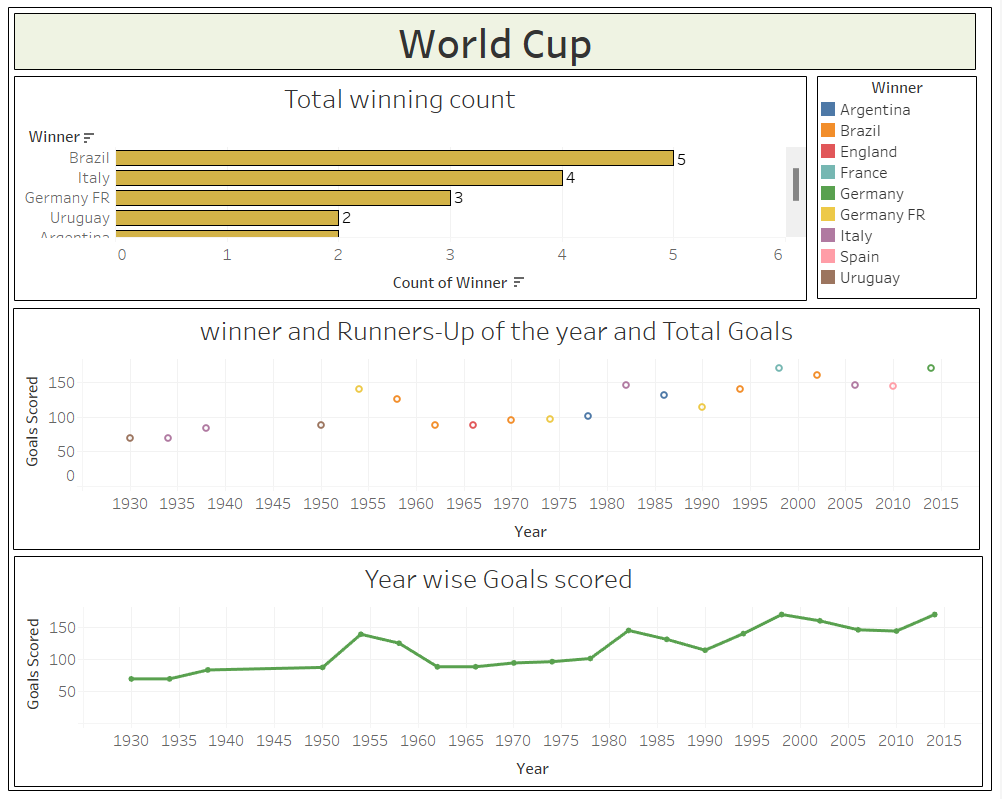

The page's visual inventory and layout, read from the dashboard file:
{"tool":"tableau","page":{"name":"World Cup","canvas":[1000,800],"ordinal":0},"visuals":[{"type":"title","box":[14,14,962,57]},{"type":"image","param":"D:/Downloads/20221122_s2022WCpreview_rhett-lewis-W-6grboBEIY-unsplash.jpg","box":[895,17,76,49]},{"type":"worksheet","title":"winning count","mark":"Automatic","rows":["Winner"],"cols":["Winner"],"box":[14,77,793,225]},{"type":"legend","title":"winner and Runners-Up of the year and Total Goals","param":"[federated.0d5sl63117791k1c37sd61dsb080].[none:Winner:nk]","box":[817,77,160,223]},{"type":"worksheet","title":"winner and Runners-Up of the year and Total Goals","mark":"Shape","rows":["GoalsScored"],"cols":["Year"],"box":[13,309,967,242]},{"type":"worksheet","title":"Year wise Goals scored","mark":"Automatic","rows":["GoalsScored"],"cols":["Year"],"box":[14,557,969,231]}]}

Visuals, with their boxes in screenshot pixels (x1, y1, x2, y2), scaled from the page's 1000x800 canvas onto the 1002x799 screenshot:
title: 14/14/978/71
image: 897/17/973/66
"winning count" worksheet: 14/77/809/302
"winner and Runners-Up of the year and Total Goals" legend: 819/77/979/300
"winner and Runners-Up of the year and Total Goals" worksheet (Shape marks): 13/309/982/550
"Year wise Goals scored" worksheet: 14/556/985/787
